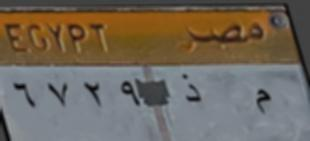2: (83, 74, 107, 114)
6: (11, 78, 40, 113)
7: (44, 80, 76, 111)
9: (117, 79, 142, 112)
meem: (245, 81, 277, 122)
zaal: (177, 69, 207, 111)
